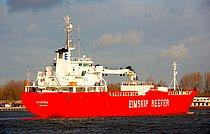Ship: (17, 12, 201, 123)
